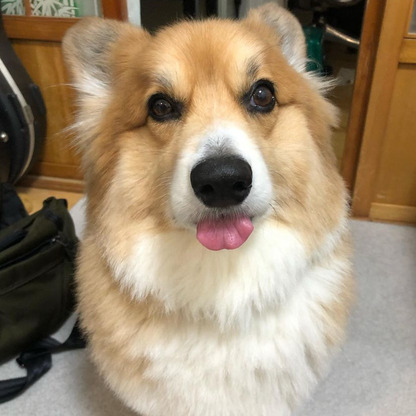Corgi: (63, 23, 360, 401)
